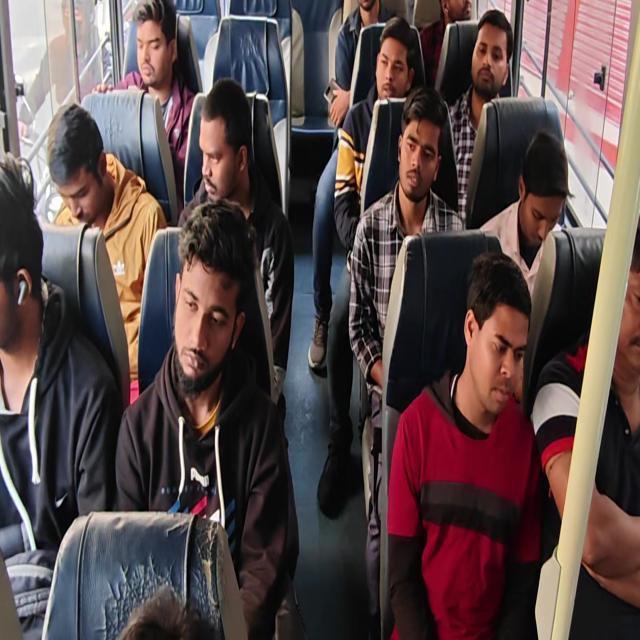person: (0, 158, 61, 352), (171, 234, 236, 372), (44, 111, 118, 229), (187, 84, 254, 214), (460, 261, 520, 403), (598, 242, 640, 388), (394, 101, 450, 198), (520, 151, 561, 241), (125, 6, 170, 75), (374, 30, 406, 93), (475, 30, 508, 89), (430, 0, 480, 34), (343, 0, 383, 28)
